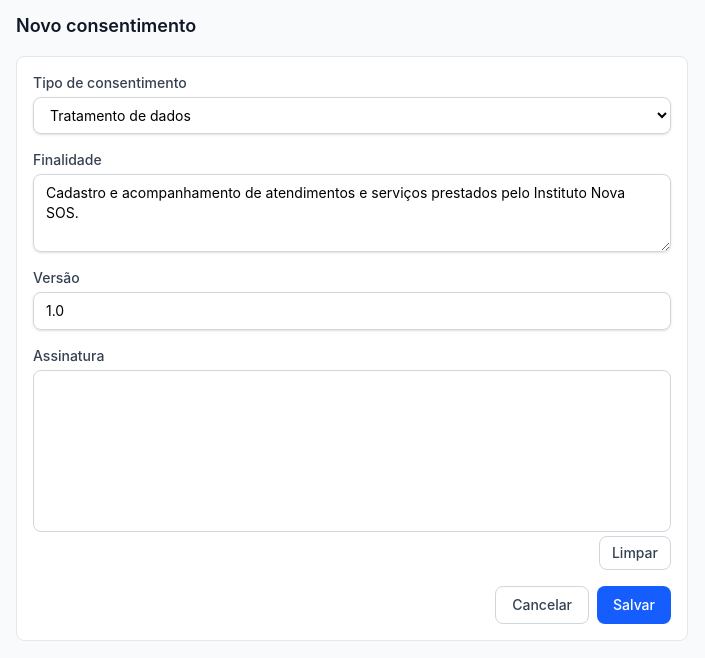
Test: ConsentFormPage — fields and validation › refreshes the purpose preset when the consent type changes
Select "Uso de imagem" in the dropdown labelled "Tipo de consentimento": point(352, 116) [33,97,671,134]
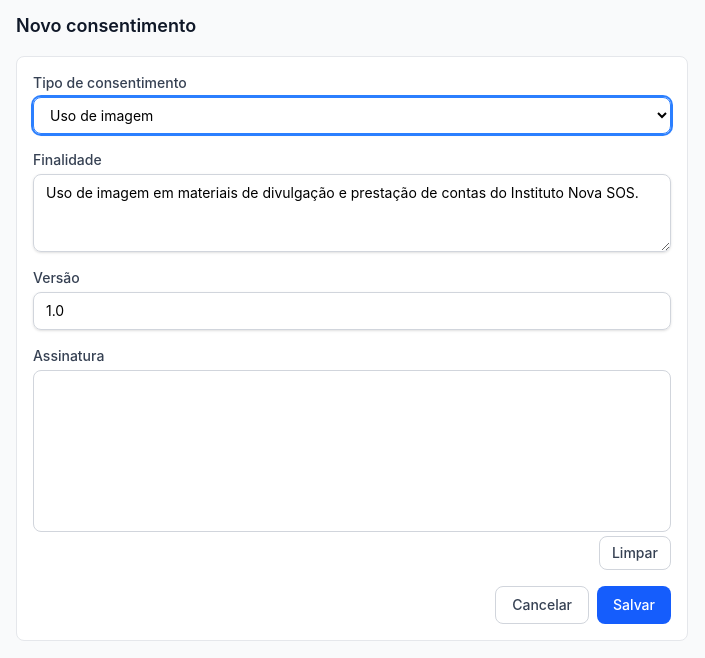
Check: the text box labelled "Finalidade" holds "Uso de imagem em materiais de divulgação e prestação de contas do Instituto Nova SOS.", box [33,174,671,252]
